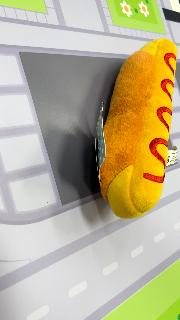hotdog: (96, 38, 178, 220)
